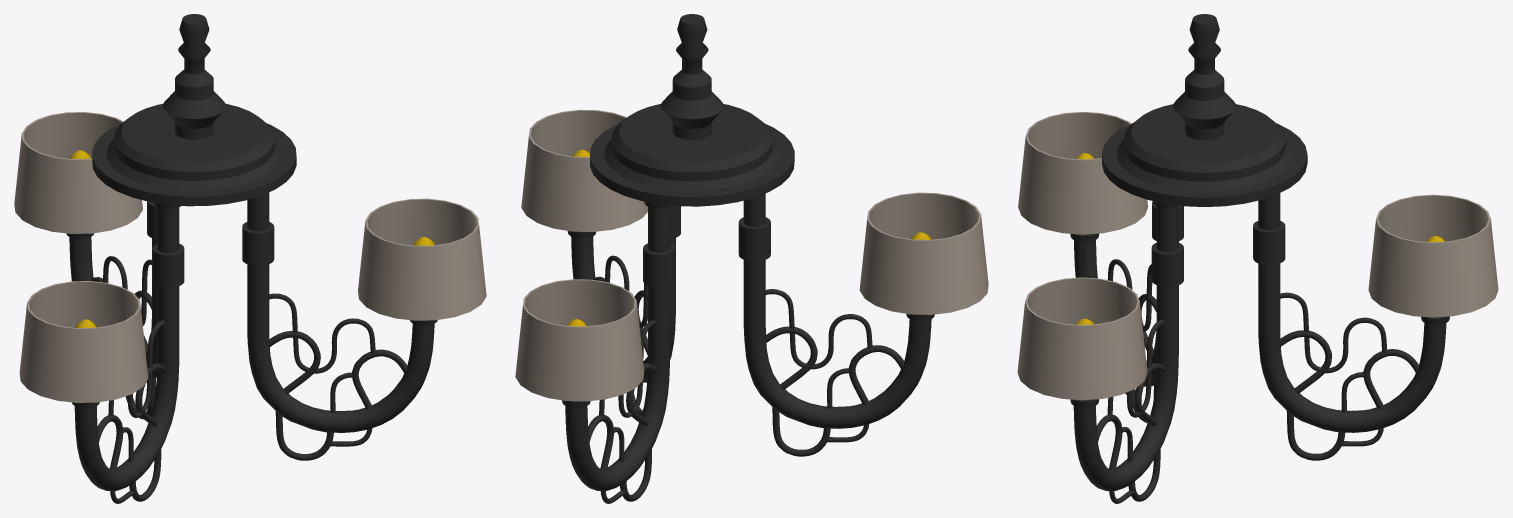
File: Lustre2_2.fbx
3 renders of one model, left to right at view 1: azimuth 30°, elevation 25°; view 2: azimuth 150°, elevation 25°; view 3: azimuth 270°, elevation 25°, orthographic.
Parts seen in each view (by area): view 1: pCylinder1147, pPipe163, pPipe165, pPipe164, pCylinder1185, pCylinder1190, pCylinder1198, pCylinder1180, pCylinder1179, pCylinder1160, pCylinder1181, pCylinder1148; view 2: pCylinder1147, pPipe164, pPipe165, pPipe163, pCylinder1190, pCylinder1198, pCylinder1185, pCylinder1193, pCylinder1192, pCylinder1189, pCylinder1187, pCylinder1180 (+1 smaller); view 3: pCylinder1147, pPipe163, pPipe164, pPipe165, pCylinder1198, pCylinder1185, pCylinder1190, pCylinder1165, pCylinder1174, pCylinder1173, pCylinder1176, pCylinder1160.
Part boxes in pixels (bbox=[...]): pCylinder1147: bbox=[92, 14, 296, 206]; pPipe163: bbox=[358, 198, 486, 320]; pPipe165: bbox=[19, 281, 148, 402]; pPipe164: bbox=[14, 112, 142, 233]; pCylinder1185: bbox=[242, 192, 434, 432]; pCylinder1190: bbox=[74, 202, 184, 490]; pCylinder1198: bbox=[69, 201, 157, 382]; pCylinder1180: bbox=[293, 318, 375, 373]; pCylinder1179: bbox=[269, 331, 320, 393]; pCylinder1160: bbox=[352, 349, 407, 409]; pCylinder1181: bbox=[275, 411, 333, 460]; pCylinder1148: bbox=[97, 416, 123, 470]; pCylinder1147: bbox=[590, 14, 794, 206]; pPipe164: bbox=[515, 279, 644, 401]; pPipe165: bbox=[859, 192, 988, 314]; pPipe163: bbox=[521, 109, 647, 231]; pCylinder1190: bbox=[738, 193, 931, 428]; pCylinder1198: bbox=[565, 201, 675, 490]; pCylinder1185: bbox=[571, 205, 680, 382]; pCylinder1193: bbox=[789, 314, 871, 369]; pCylinder1192: bbox=[765, 326, 815, 389]; pCylinder1189: bbox=[848, 345, 903, 405]; pCylinder1187: bbox=[772, 407, 829, 456]; pCylinder1180: bbox=[605, 255, 647, 327]; pCylinder1147: bbox=[1102, 14, 1307, 206]; pPipe163: bbox=[1017, 277, 1147, 400]; pPipe164: bbox=[1368, 194, 1498, 317]; pPipe165: bbox=[1018, 111, 1147, 234]; pCylinder1198: bbox=[1253, 193, 1446, 432]; pCylinder1185: bbox=[1073, 201, 1183, 491]; pCylinder1190: bbox=[1074, 201, 1183, 386]; pCylinder1165: bbox=[1304, 318, 1386, 373]; pCylinder1174: bbox=[1280, 330, 1331, 393]; pCylinder1173: bbox=[1363, 349, 1418, 408]; pCylinder1176: bbox=[1286, 411, 1345, 460]; pCylinder1160: bbox=[1096, 415, 1122, 470].
Size of the model in its own units: 53.12 by 49.5 by 48.95.
